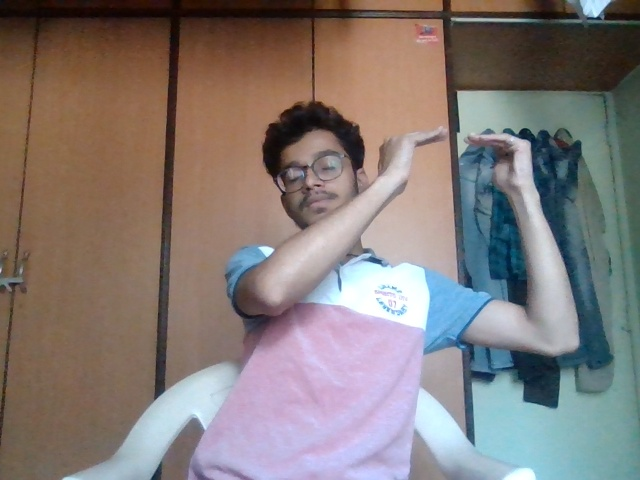afternoon: (356, 118, 571, 246)
